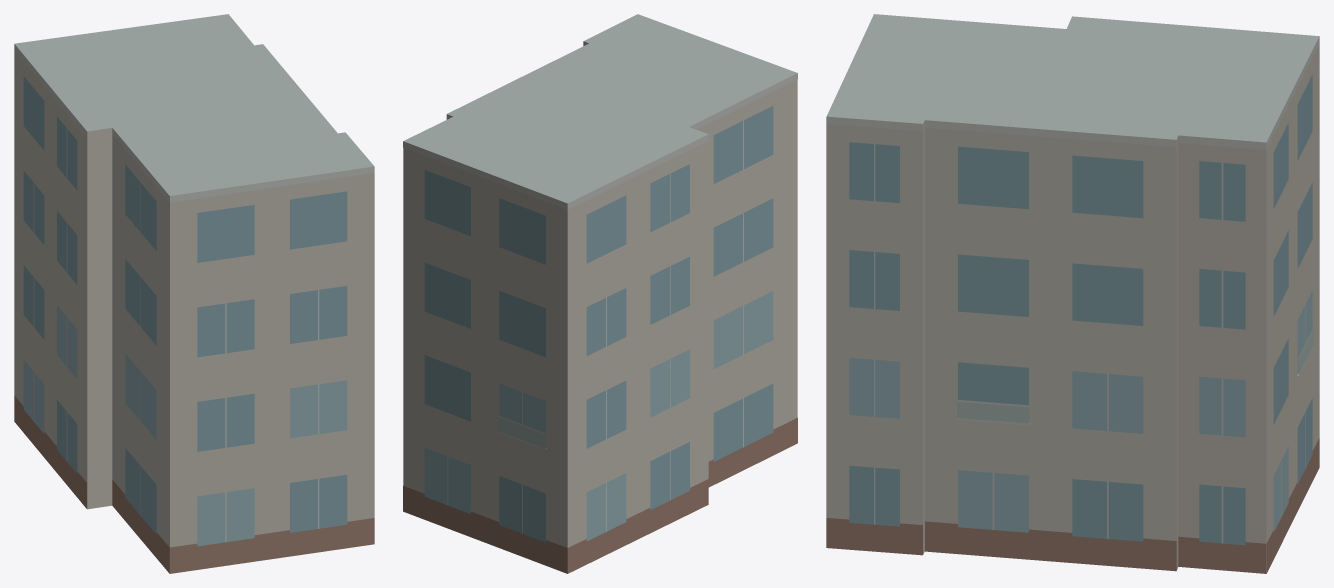
The model's file is survey-upis-32713675.glb.
3 views of the same model, side by side, from view 1: azimuth 30°, elevation 25°; view 2: azimuth 150°, elevation 25°; view 3: azimuth 270°, elevation 25° (orthographic). The views are drawn at different scales.
Visible parts, largest first — view 1: survey-upis-32713675.tmp; view 2: survey-upis-32713675.tmp; view 3: survey-upis-32713675.tmp.
Part boxes in pixels (x1,y1,x2,y2): survey-upis-32713675.tmp: [14, 14, 374, 573]; survey-upis-32713675.tmp: [403, 14, 797, 573]; survey-upis-32713675.tmp: [826, 14, 1319, 573].
Size of the model in its own units: 9.11 by 14.25 by 14.77.
